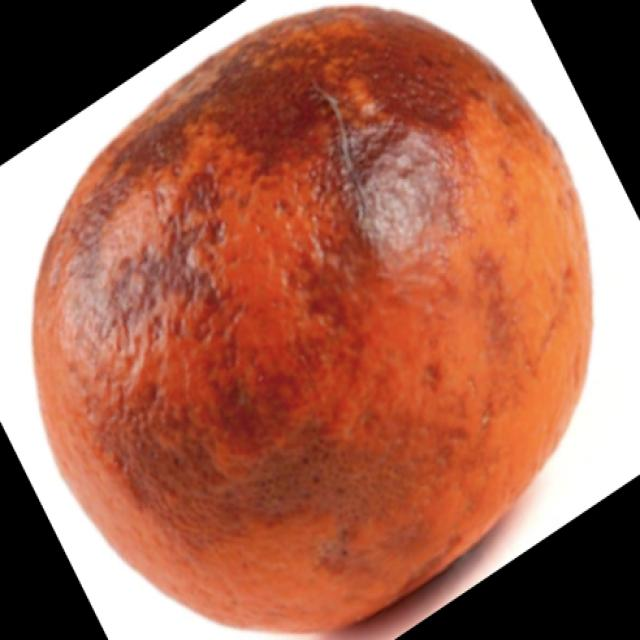sedikit_busuk: (35, 6, 589, 627)
